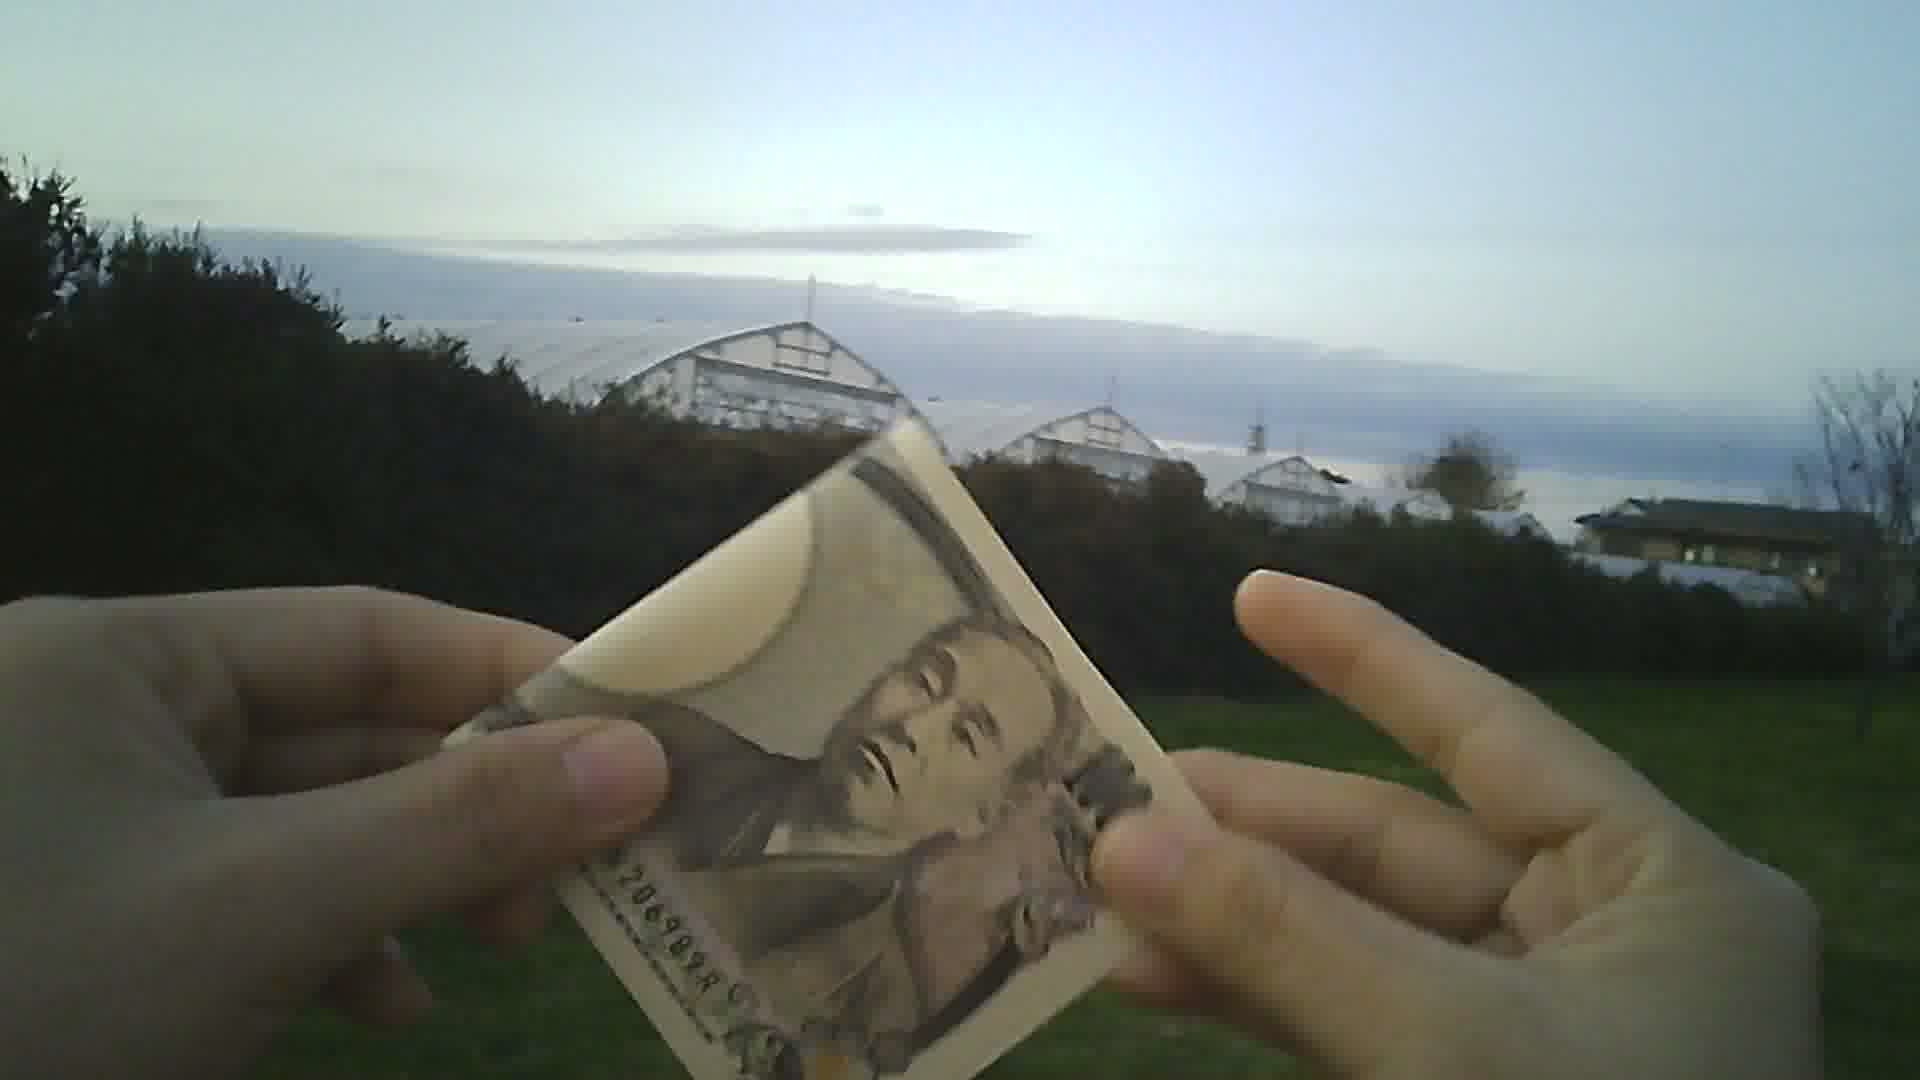10,000 Yen: (429, 427, 1218, 1077)
